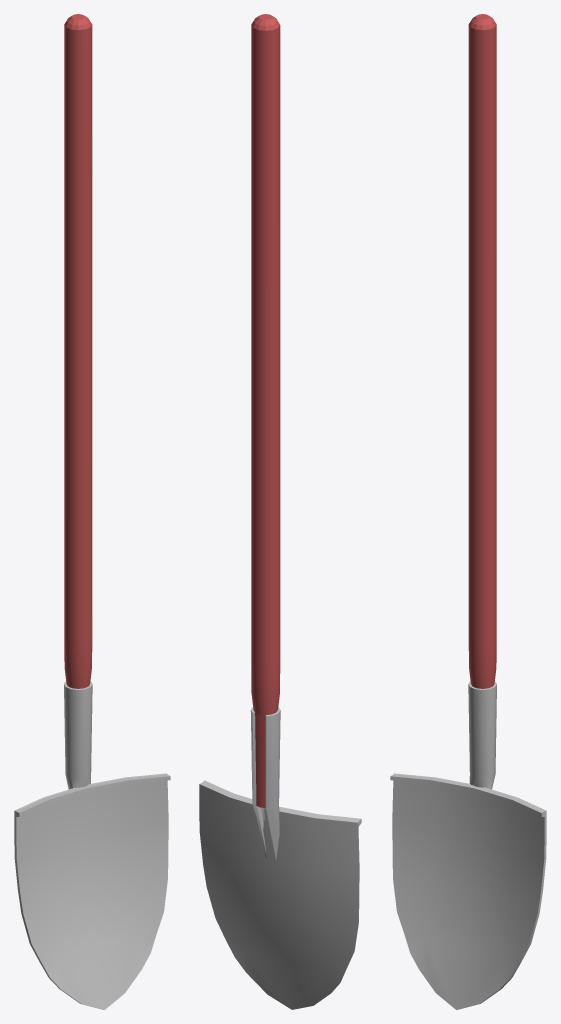
The picture shows the model from 3 angles, left to right: view 1: azimuth 30°, elevation 25°; view 2: azimuth 150°, elevation 25°; view 3: azimuth 330°, elevation 25°; orthographic projection. The views are drawn at different scales.
Parts seen in each view (by area): view 1: Spade, Handle; view 2: Spade, Handle; view 3: Spade, Handle.
Part boxes in pixels (bbox=[...]): Spade: bbox=[14, 773, 170, 1009]; Handle: bbox=[64, 14, 92, 789]; Spade: bbox=[199, 780, 361, 1009]; Handle: bbox=[250, 14, 280, 860]; Spade: bbox=[390, 773, 546, 1009]; Handle: bbox=[468, 14, 496, 789].
Size of the model in its own units: 0.2157 by 1.31 by 0.0815.
